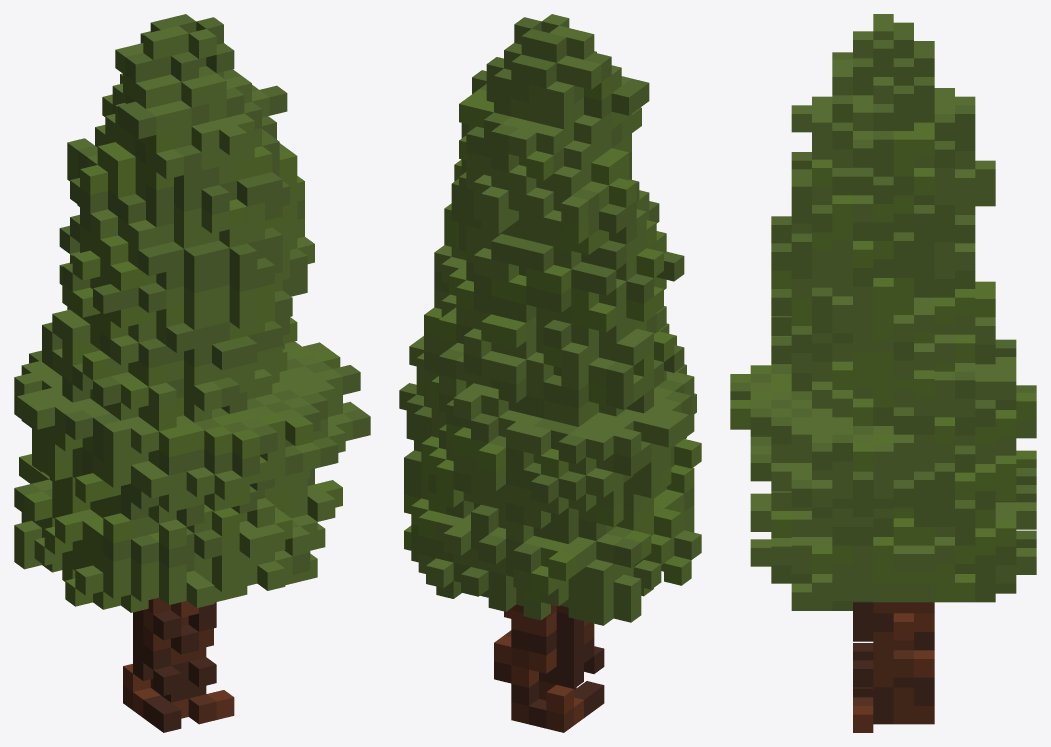
File: tree_pine.obj
3 views of the same model, side by side, from view 1: azimuth 30°, elevation 25°; view 2: azimuth 150°, elevation 25°; view 3: azimuth 270°, elevation 25° (orthographic).
Visible parts, largest first — view 1: tree_pine; view 2: tree_pine; view 3: tree_pine.
Part boxes in pixels (x1,y1,x2,y2): tree_pine: [14, 14, 370, 732]; tree_pine: [399, 14, 701, 732]; tree_pine: [730, 14, 1036, 732].
Size of the model in its own units: 1.6 by 3.7 by 1.5.
1 material, 1 textured.
